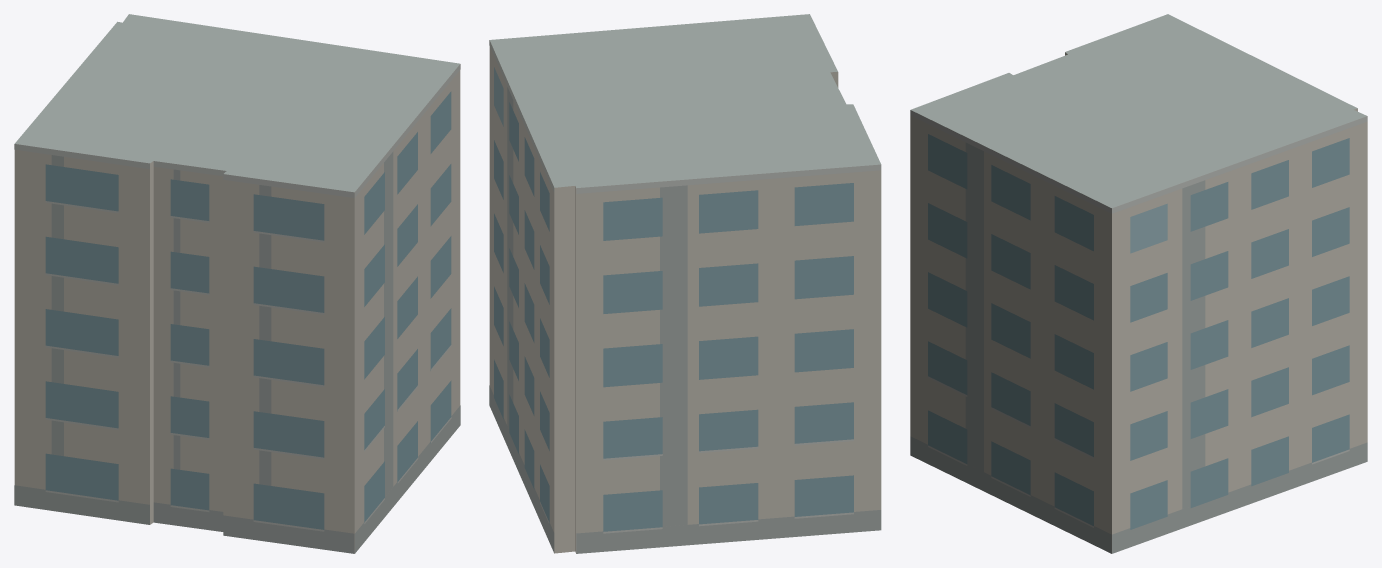
File: survey-upis-32626496.glb
The picture shows the model from 3 angles, left to right: view 1: azimuth 30°, elevation 25°; view 2: azimuth 150°, elevation 25°; view 3: azimuth 270°, elevation 25°; orthographic projection. The views are drawn at different scales.
Parts seen in each view (by area): view 1: survey-upis-32626496.tmp; view 2: survey-upis-32626496.tmp; view 3: survey-upis-32626496.tmp.
Part boxes in pixels (bbox=[...]): survey-upis-32626496.tmp: bbox=[14, 14, 460, 553]; survey-upis-32626496.tmp: bbox=[489, 14, 881, 553]; survey-upis-32626496.tmp: bbox=[910, 14, 1367, 553].
Bounding box in the file's own units: 18.4 × 15.25 × 18.29.
